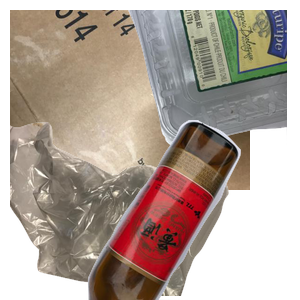cardboard: (10, 10, 250, 190)
glass: (85, 120, 300, 300)
plastic: (60, 10, 300, 149)
trash: (10, 120, 231, 300)
